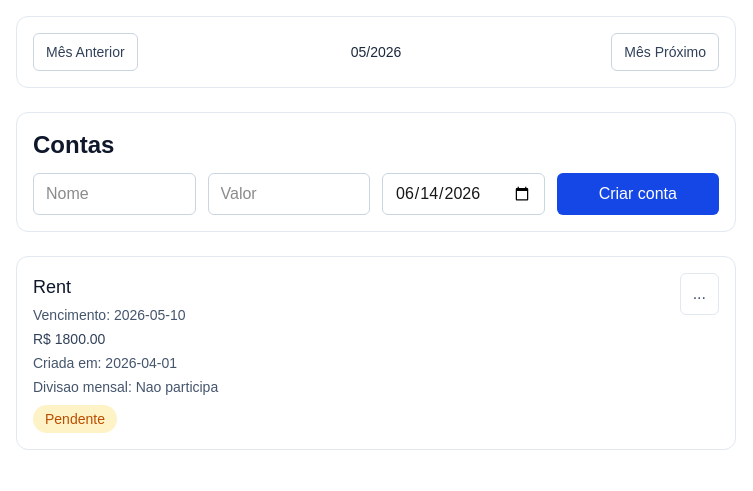
Scenario: AccountsList › shows accounts and marks an account as paid
Check: the text "Rent" is shown, box [33,277,71,297]
Check: the text "Pendente" is shown, box [33,405,117,433]
What coordinates should you click on to do the following:
click the button "..."
I would click on:
 (699, 294)
Its box is [680,273,719,315].
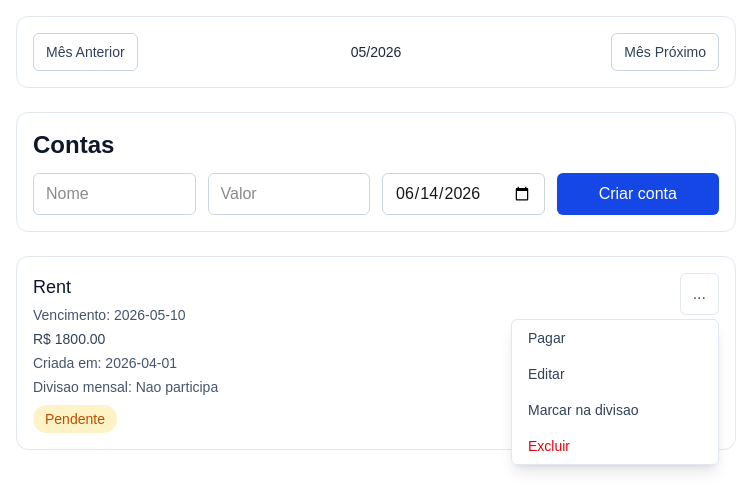
What coordinates should you click on to do the following:
click the button "Pagar"
I would click on:
 (615, 338)
Its box is [512,320,718,356].
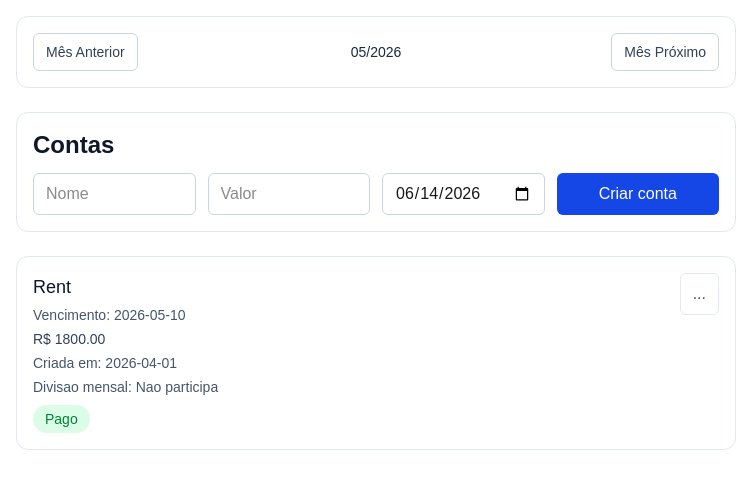
Check: the text "Pago" is shown, box [33,405,90,433]
